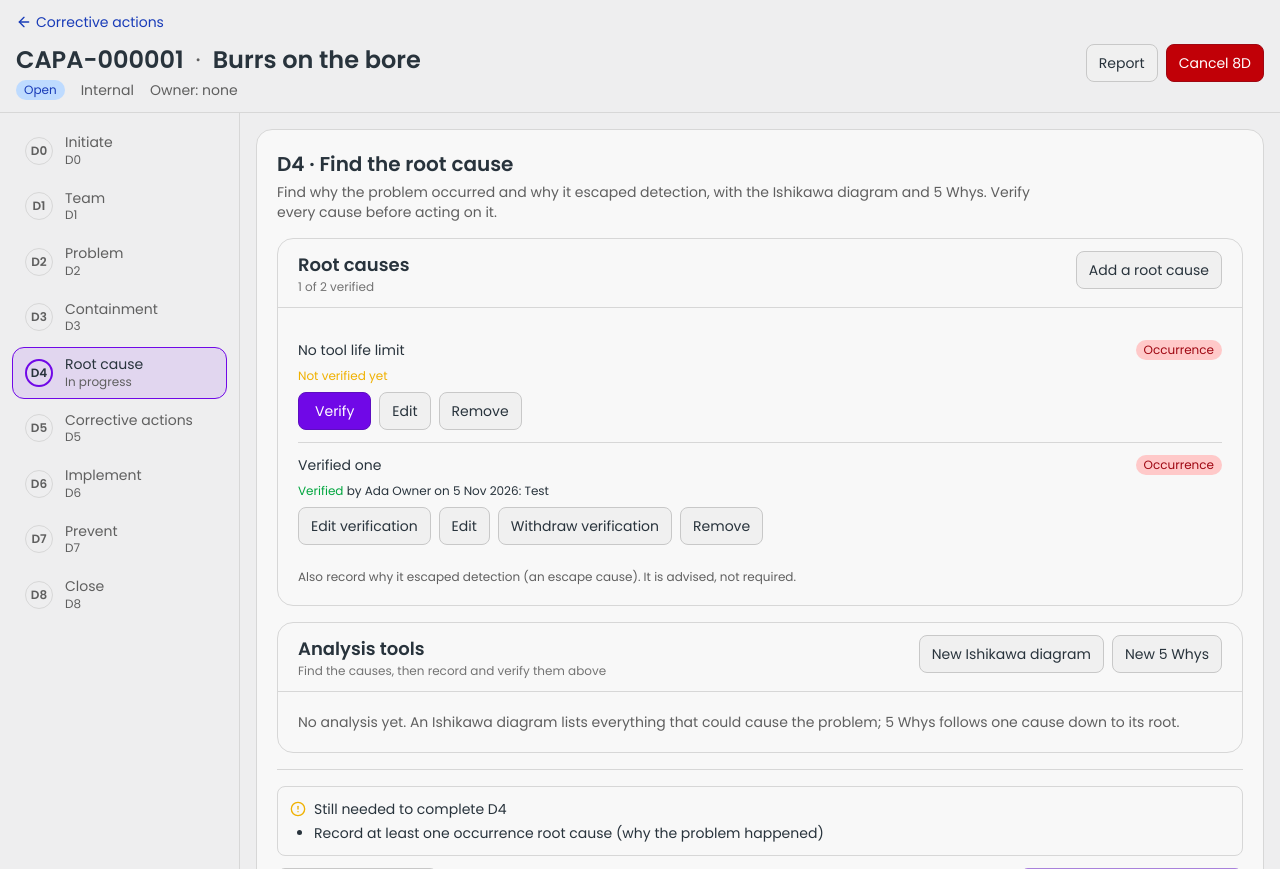
Test case: D4: root causes › verifies a cause with a method and a note; withdraws a verification; edits; removes after confirming
Later steps or results of the test are not shown.
Step 1. Click the button with aria-label "Verify: No tool life limit" → (335, 411), box [298,392,371,430]
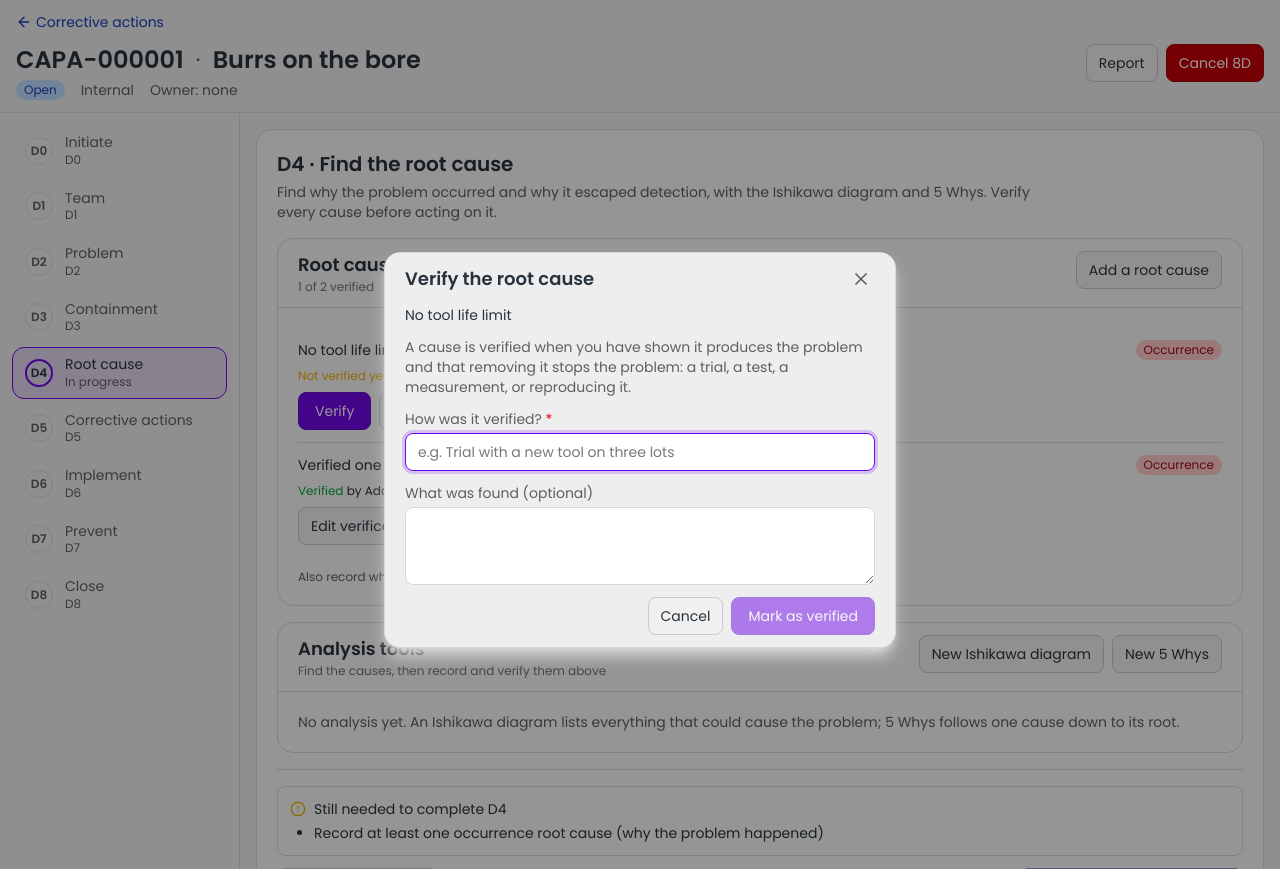
Now the button "Mark as verified" is disabled, box [731,597,875,635]
Step 2. Type "Trial with a new tool" into the field labelled "How was it verified?" → (640, 452), box [405,433,875,471]
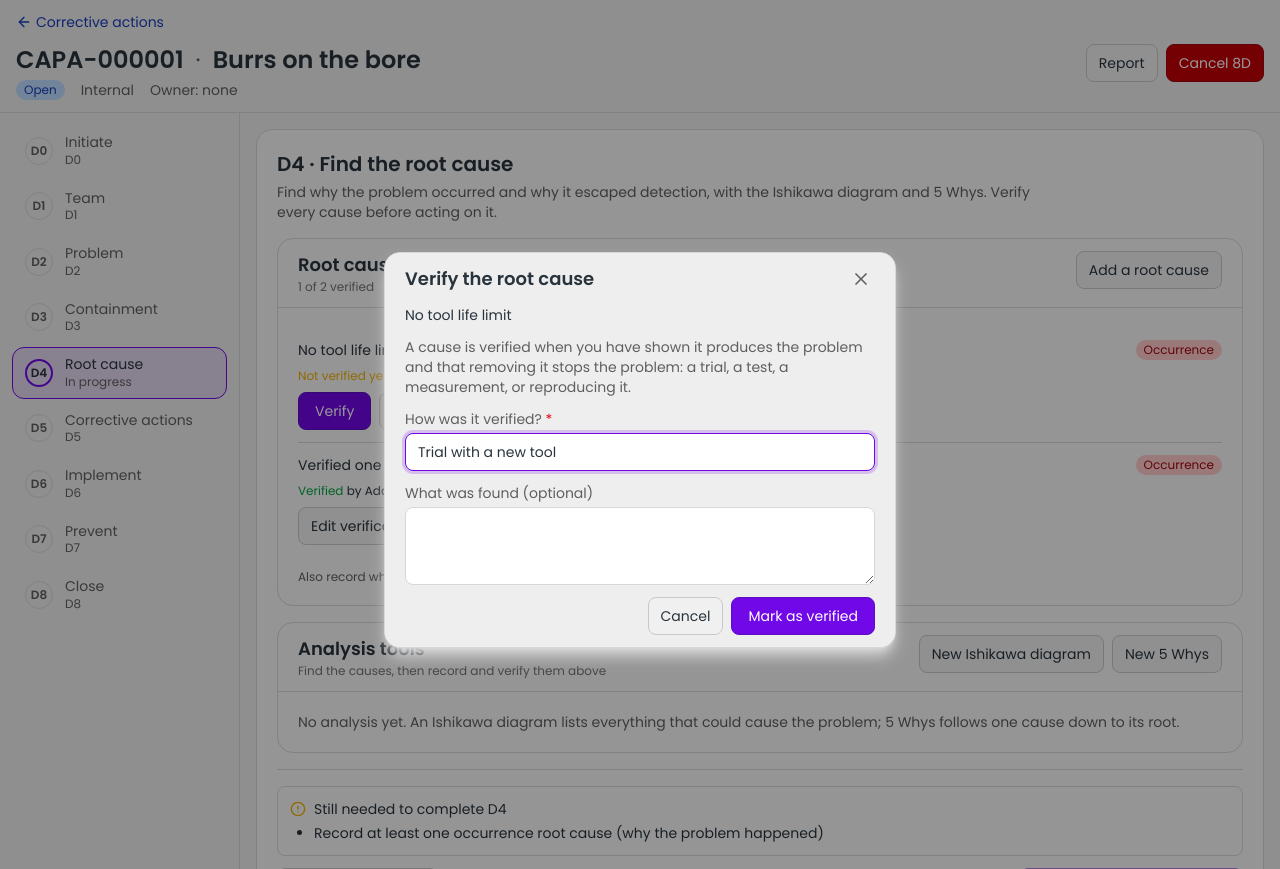
Step 3. Type "Burrs stopped" into the text box labelled "What was found (optional)" → (640, 546), box [405,507,875,585]
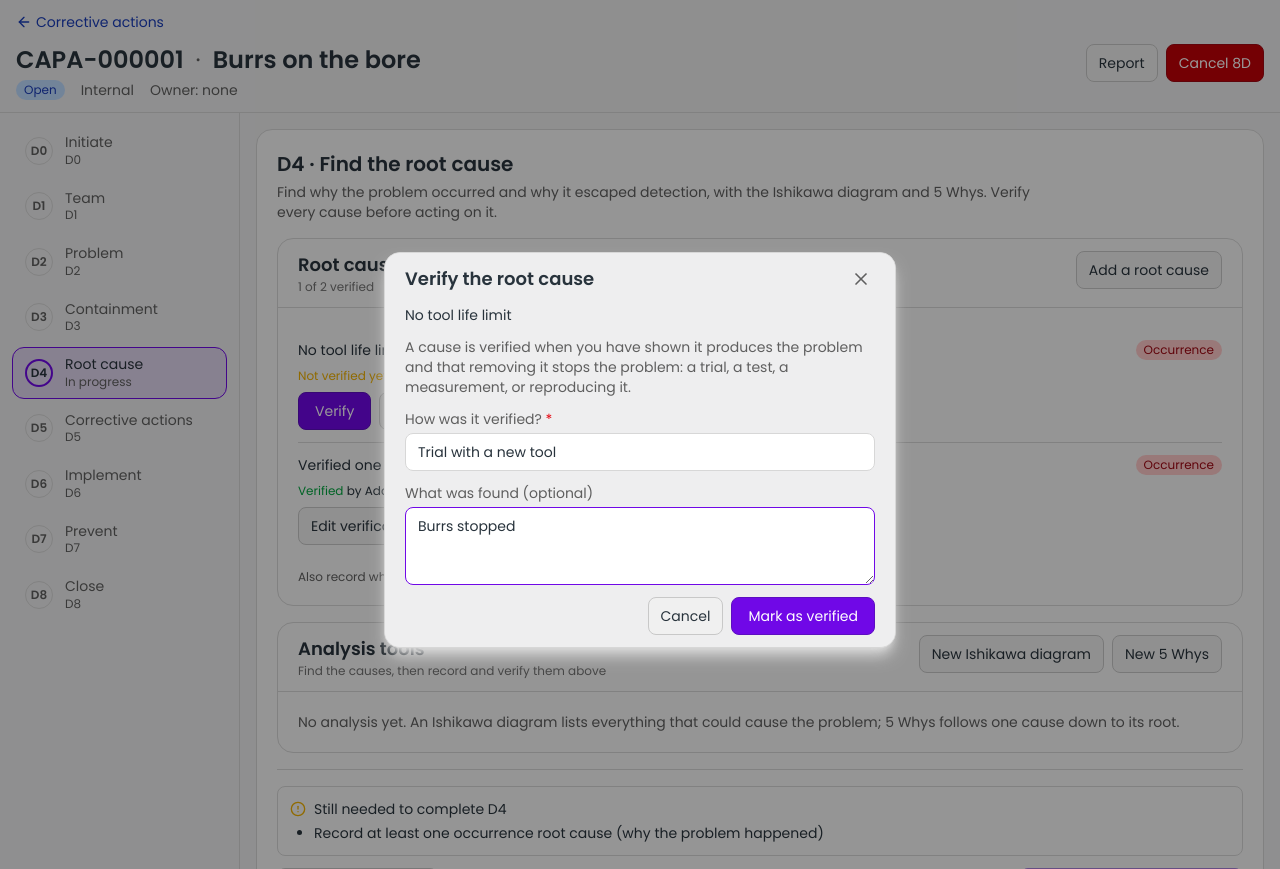
Step 4. Click the button "Mark as verified" → (803, 616), box [731,597,875,635]
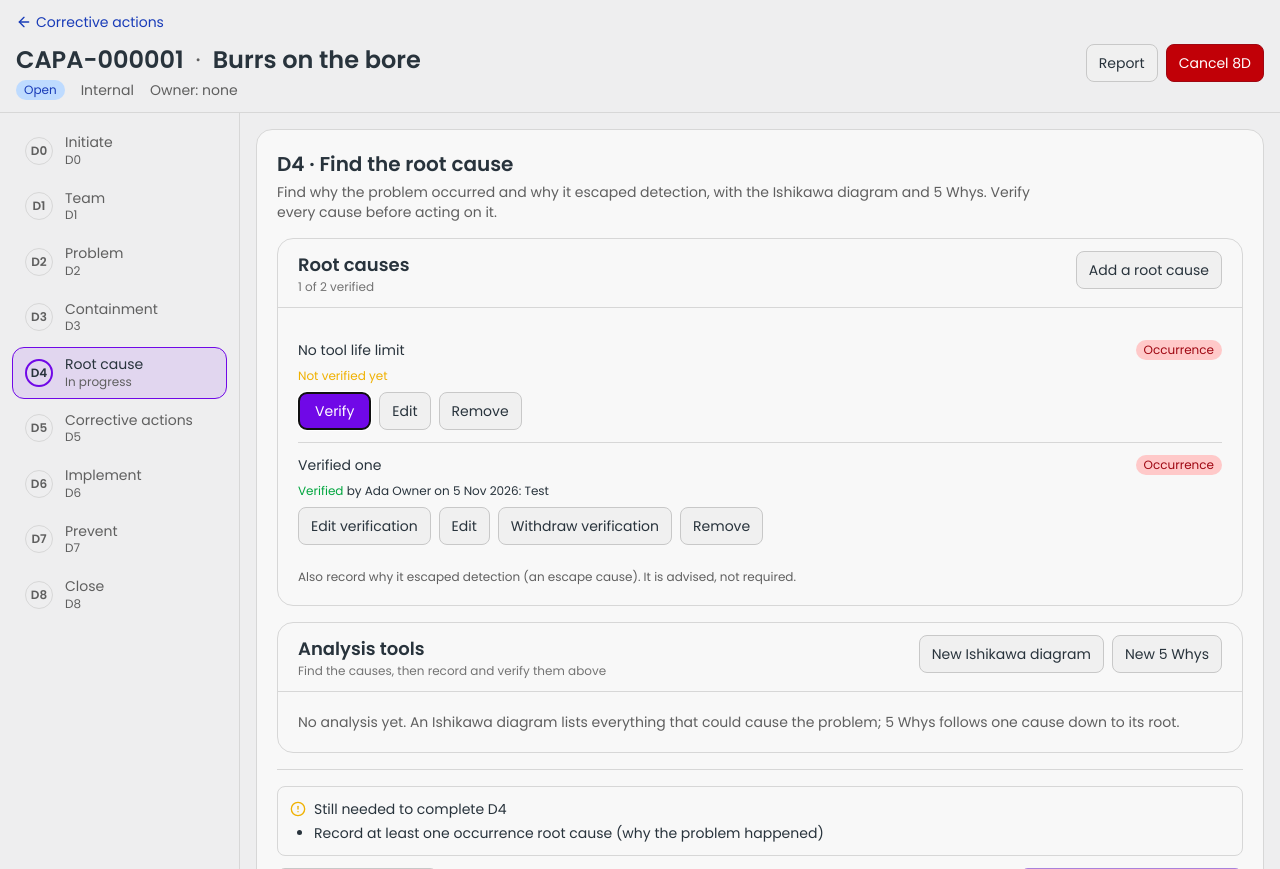
Step 5. Click the button with aria-label "Withdraw verification of: Verified one" → (585, 526), box [498,507,672,545]
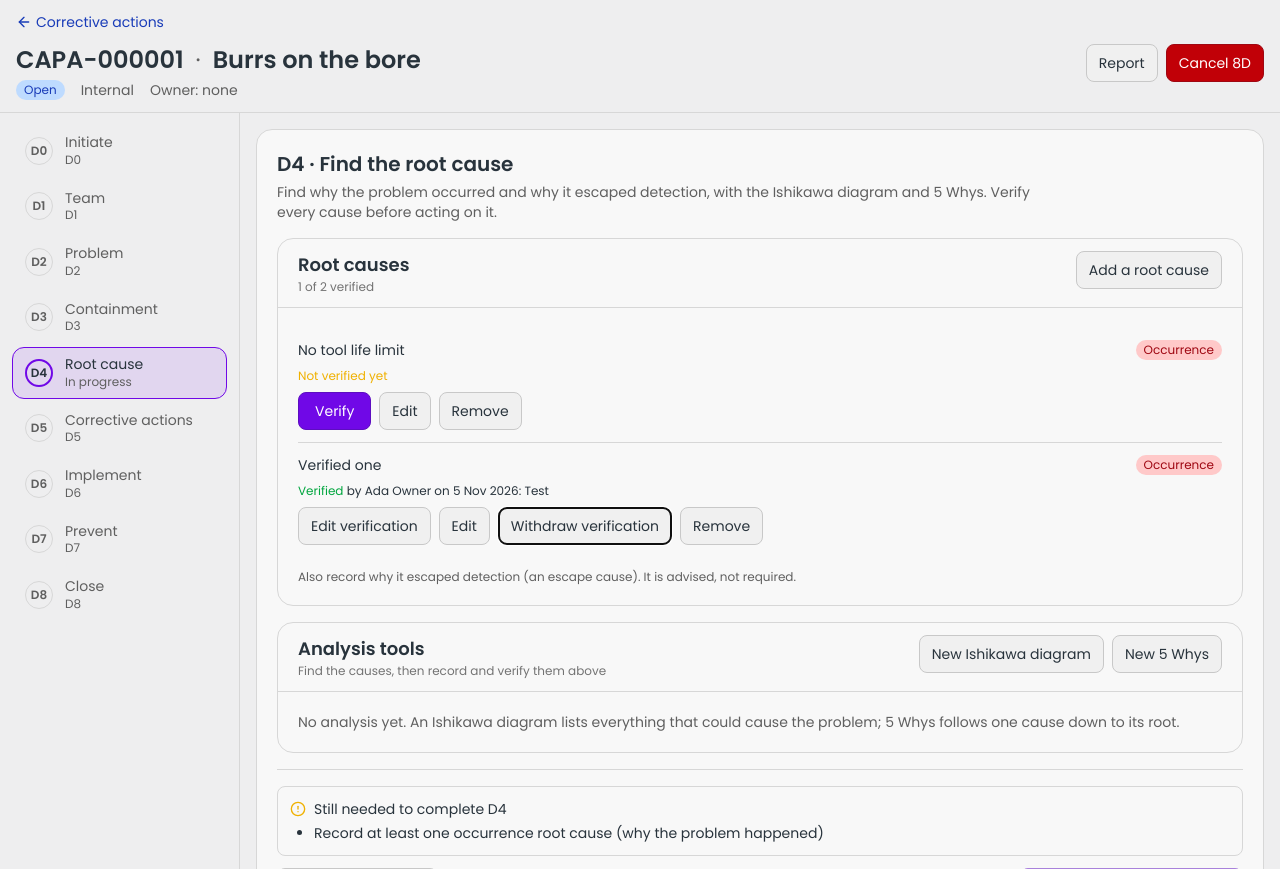
Step 6. Click the button with aria-label "Edit: Verified one" → (464, 526), box [439,507,490,545]
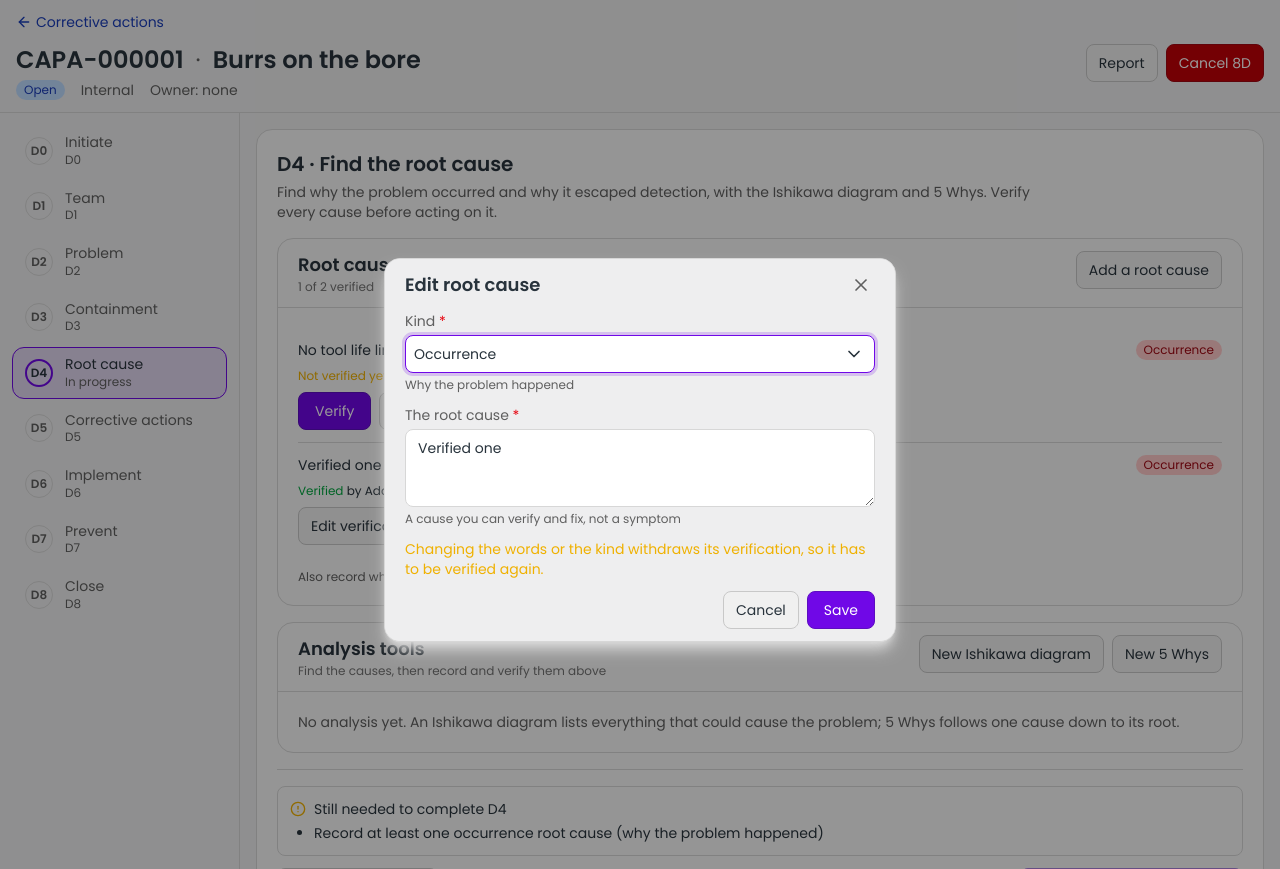
Now the text "withdraws its verification" is shown, box [405,539,866,579]
